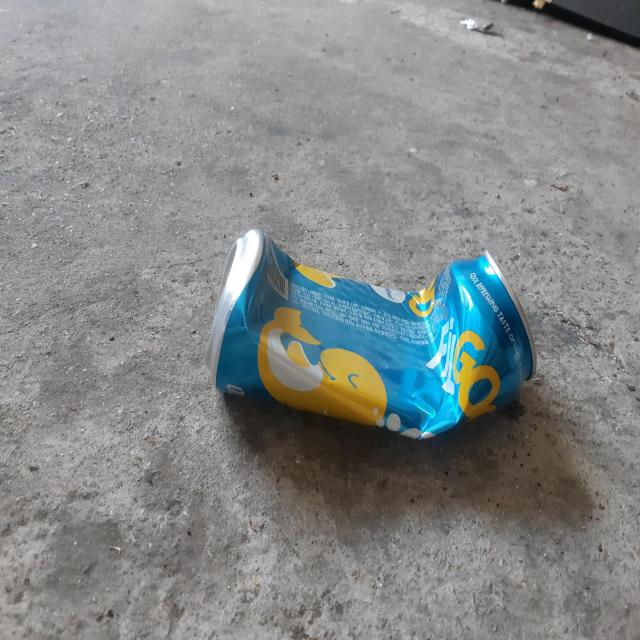can: (206, 229, 537, 439)
